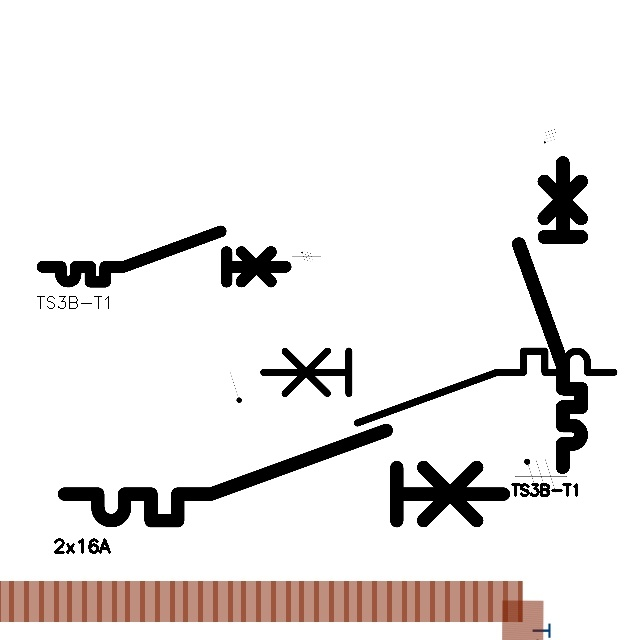interruptor_termomagnetico: (53, 419, 515, 532), (254, 342, 623, 432), (511, 155, 589, 475), (36, 225, 292, 288)
